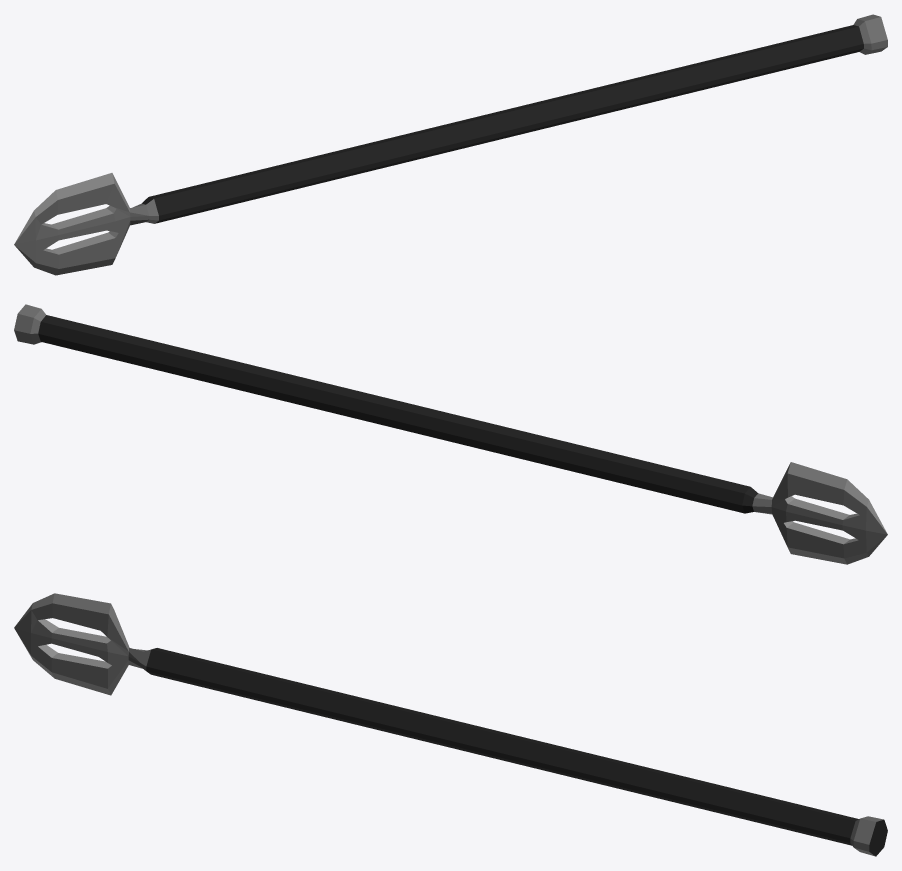
The model's file is Arrowhead_Spear_02.fbx.
The picture shows the model from 3 angles, top to bottom: view 1: azimuth 30°, elevation 25°; view 2: azimuth 150°, elevation 25°; view 3: azimuth 330°, elevation 25°; orthographic projection.
Visible parts, largest first — view 1: yarijiri nari yari; view 2: yarijiri nari yari; view 3: yarijiri nari yari.
Part boxes in pixels (<box>): yarijiri nari yari: <box>14,14,887,275</box>; yarijiri nari yari: <box>14,304,887,564</box>; yarijiri nari yari: <box>14,593,887,856</box>.
Size of the model in its own units: 186 by 18.92 by 6.91.
